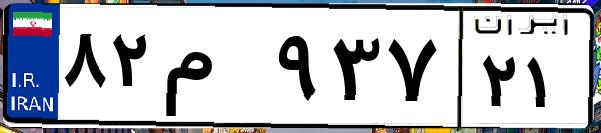1: (525, 38, 570, 115)
2: (475, 38, 525, 113), (110, 28, 158, 98)
3: (330, 28, 385, 110)
7: (385, 28, 445, 110)
8: (57, 26, 110, 100)
9: (270, 28, 330, 110)
م: (158, 20, 270, 120)
